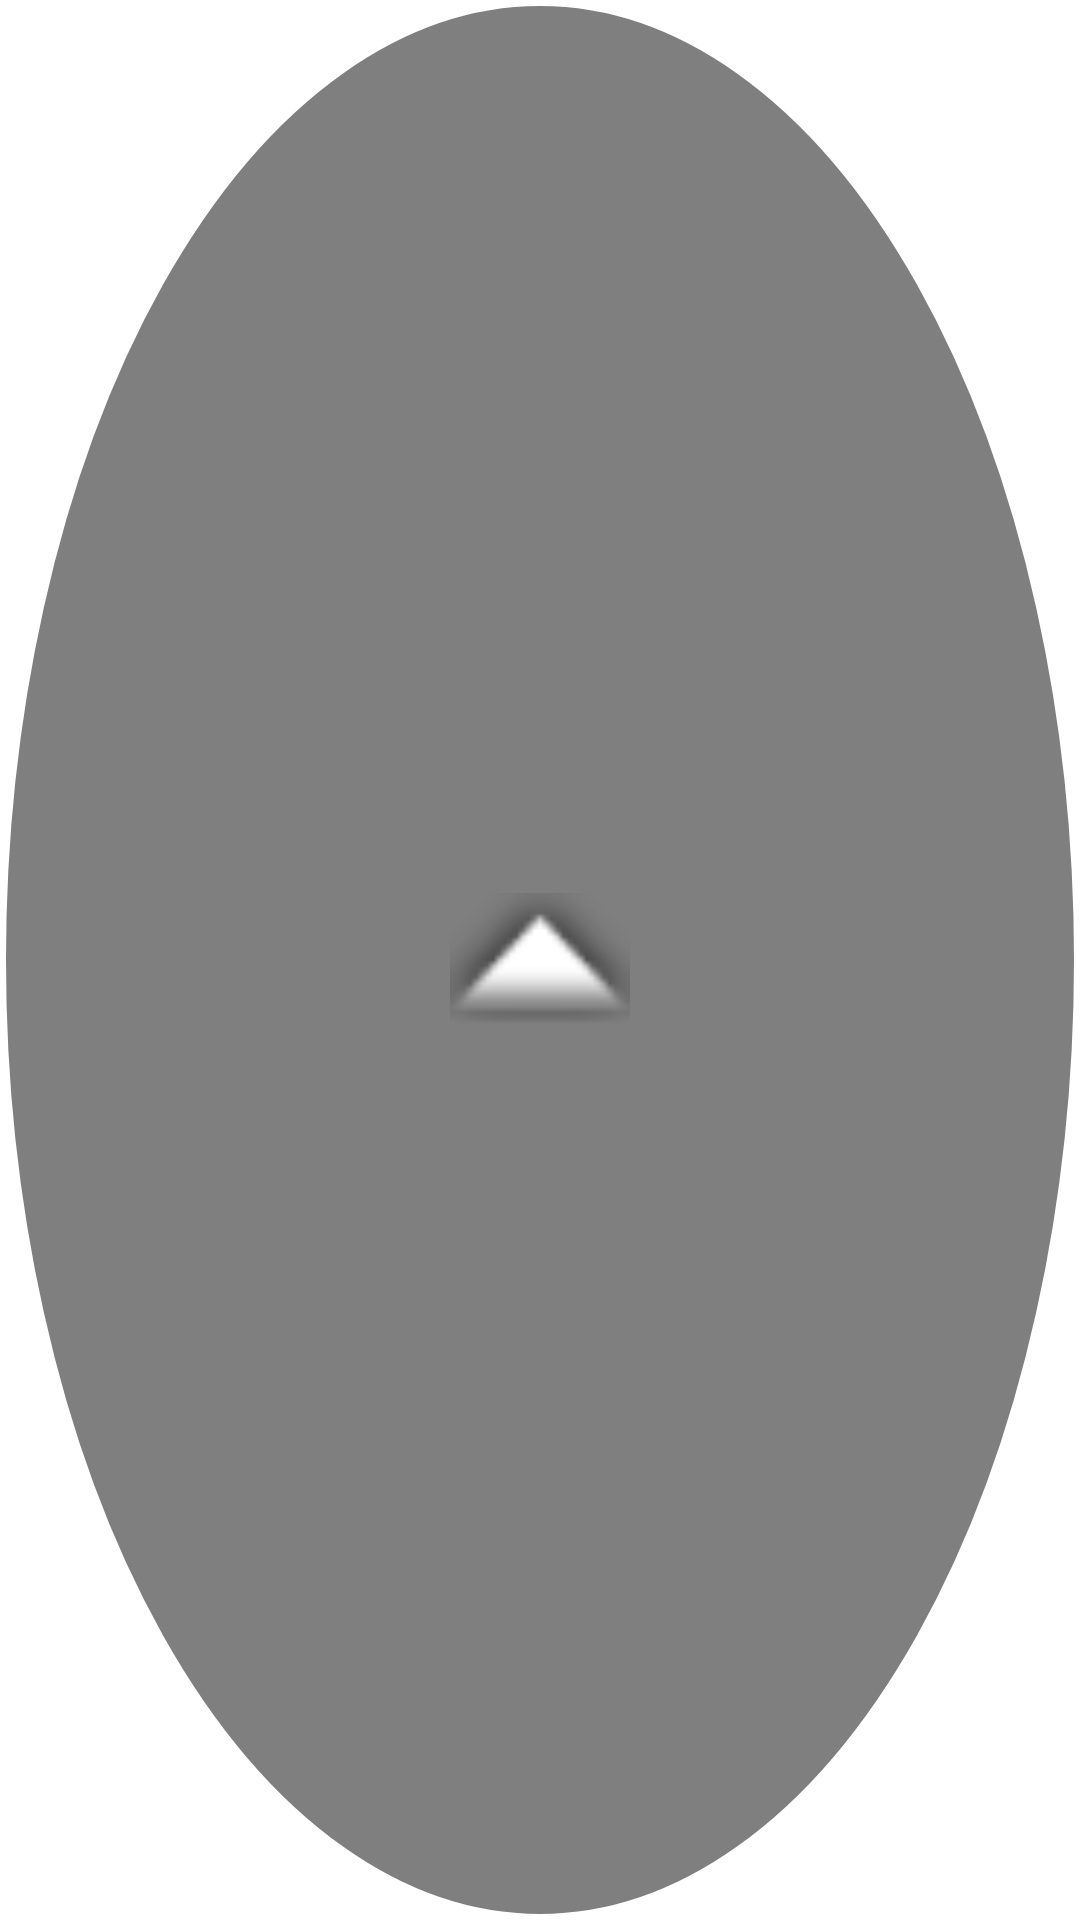

Icons on this 1080 x 1920 Android screen, each with its box as bbox(x1, y1, x2, y2):
arrow up float: bbox(460, 909, 620, 1001)
